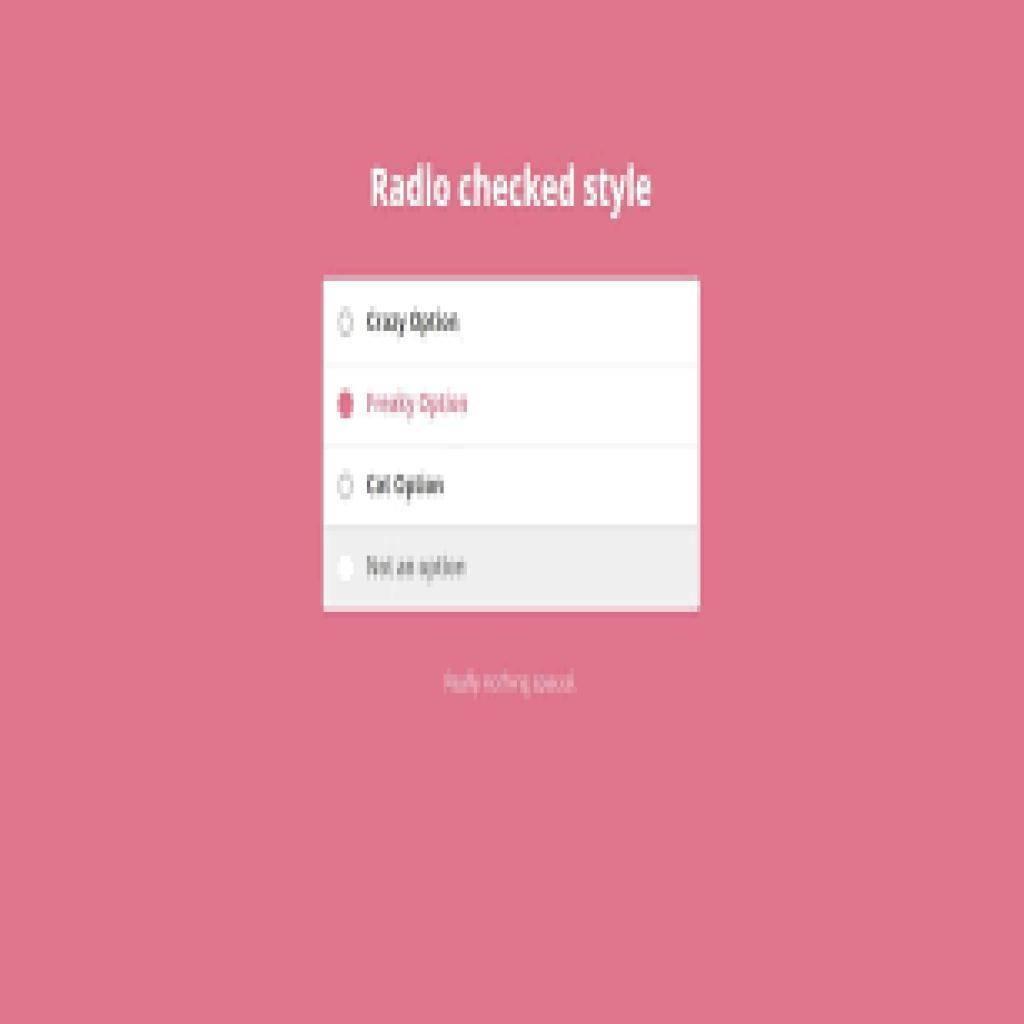radio: (332, 300, 360, 347), (333, 380, 360, 425), (334, 548, 358, 591), (335, 468, 359, 504)
